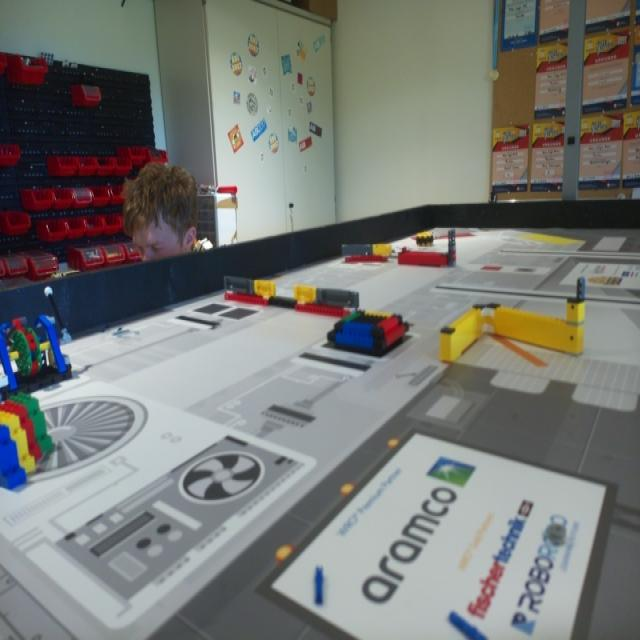blau: (334, 323, 376, 358)
gruen: (340, 310, 362, 322)
rot: (388, 315, 399, 351)
yellow: (367, 306, 393, 320)
